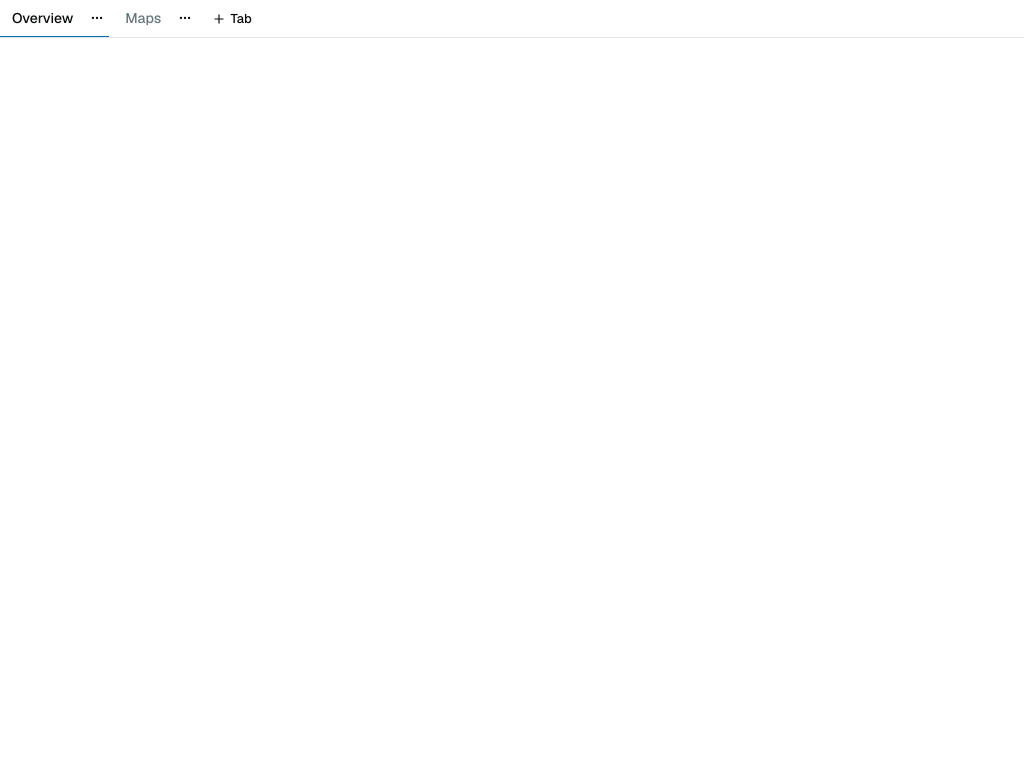
Test: dashboard tab bar › will not add a blank name
Click the button "Tab" at (232, 18), box [201,4,263,32]
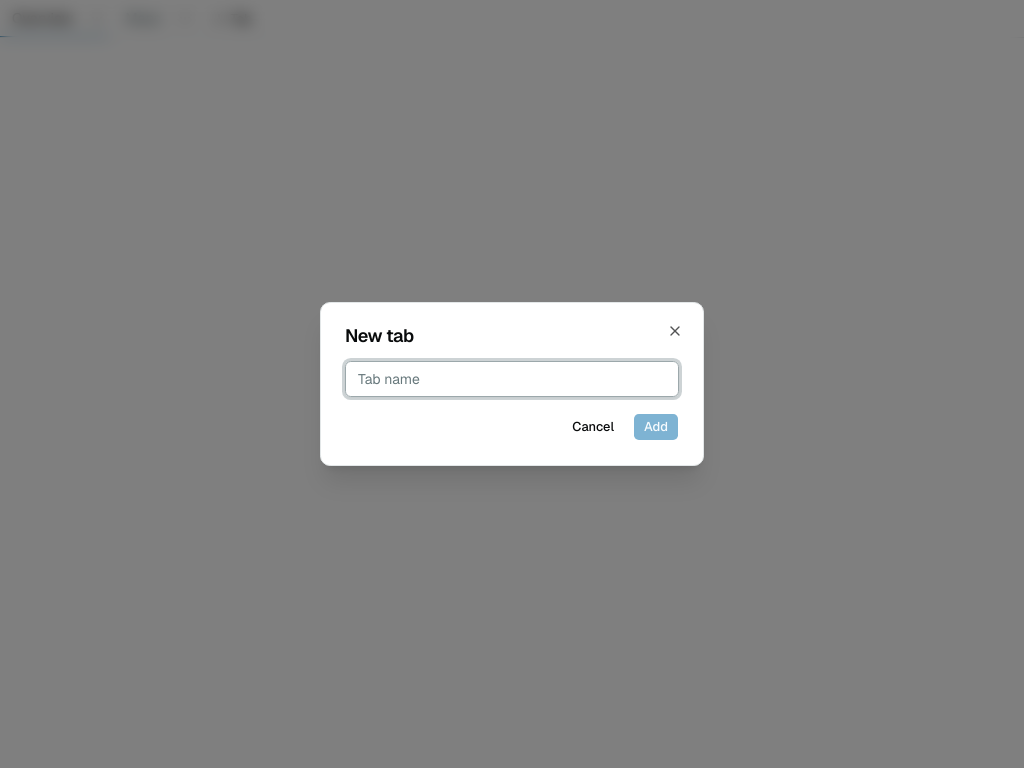
Check: the button "Add" is disabled, box [633,413,679,441]
